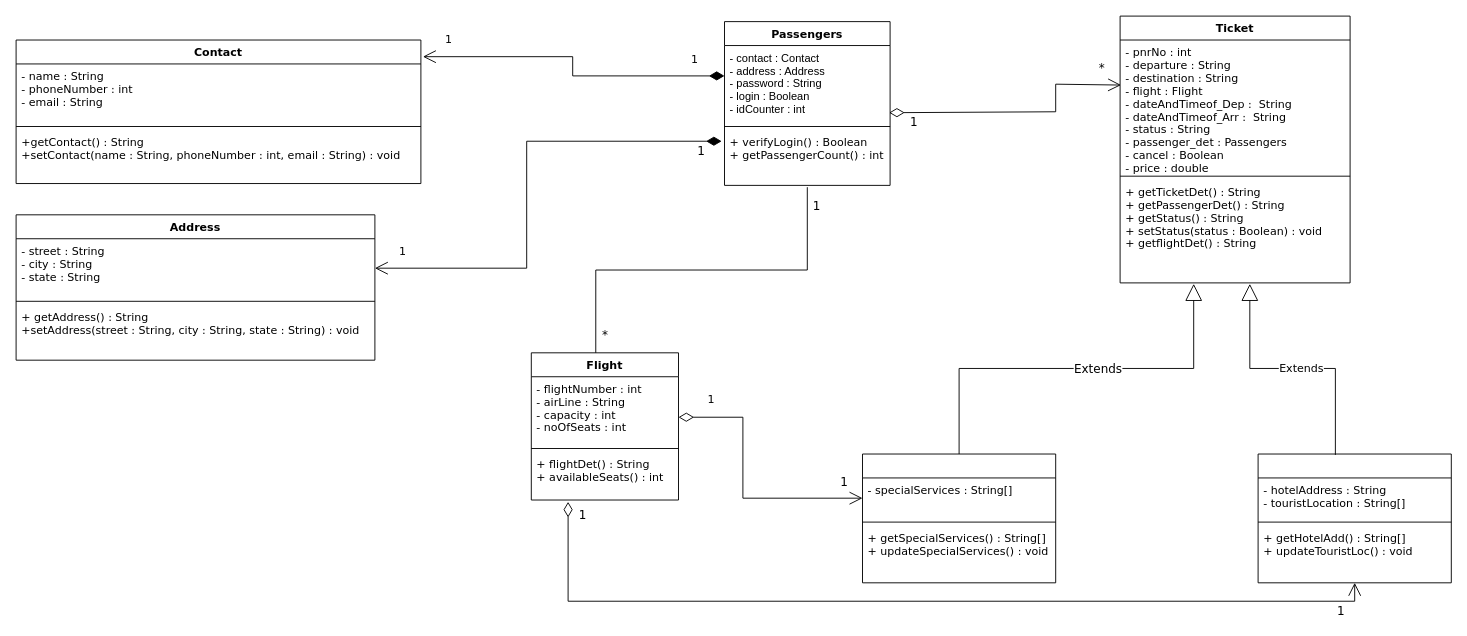
Image size: 1467x636. Some labels were removed from this diagram. The shapes that lost their labels are listed below. From the top down, each one's box as (x1, y1, x2, y2) in pixels, then its label:
(862, 453, 1056, 583): Regular Ticket
(1257, 453, 1451, 583): Tourist Ticket
